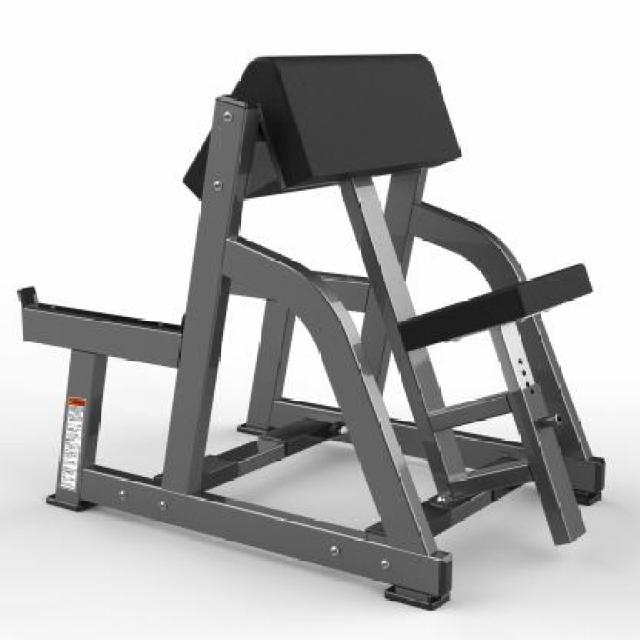arm curl machine: (19, 54, 606, 611)
